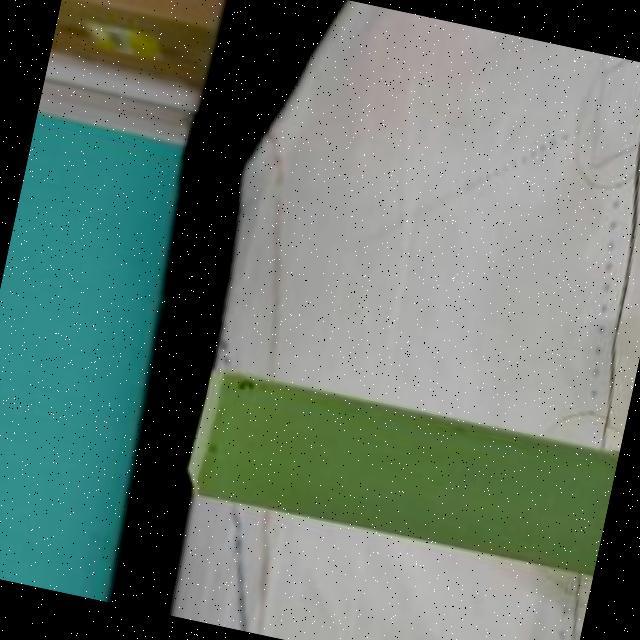greenbox: (182, 358, 620, 578)
